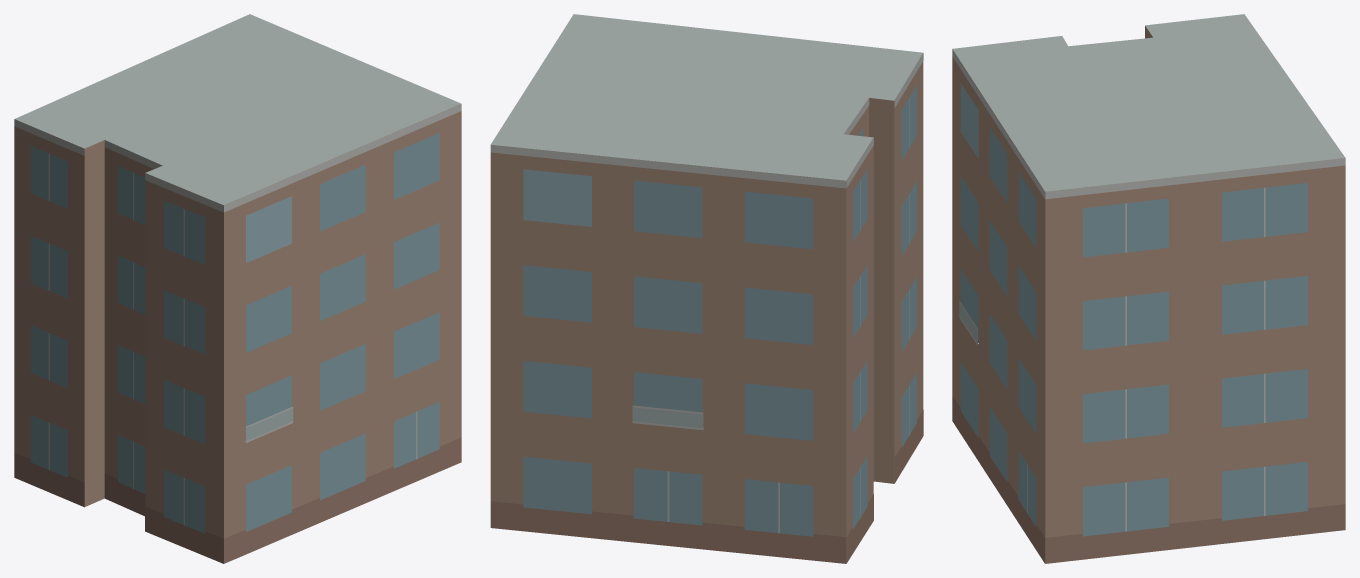
The model's file is survey-upis-32573172.glb.
3 renders of one model, left to right at view 1: azimuth 30°, elevation 25°; view 2: azimuth 150°, elevation 25°; view 3: azimuth 270°, elevation 25°, orthographic. The views are drawn at different scales.
Visible parts, largest first — view 1: survey-upis-32573172.tmp; view 2: survey-upis-32573172.tmp; view 3: survey-upis-32573172.tmp.
Boxes of the visible parts, x1,y1,x2,y2 form: survey-upis-32573172.tmp: [14, 14, 461, 563]; survey-upis-32573172.tmp: [490, 14, 923, 563]; survey-upis-32573172.tmp: [952, 14, 1345, 563].
Size of the model in its own units: 12.41 by 12.1 by 11.6.
